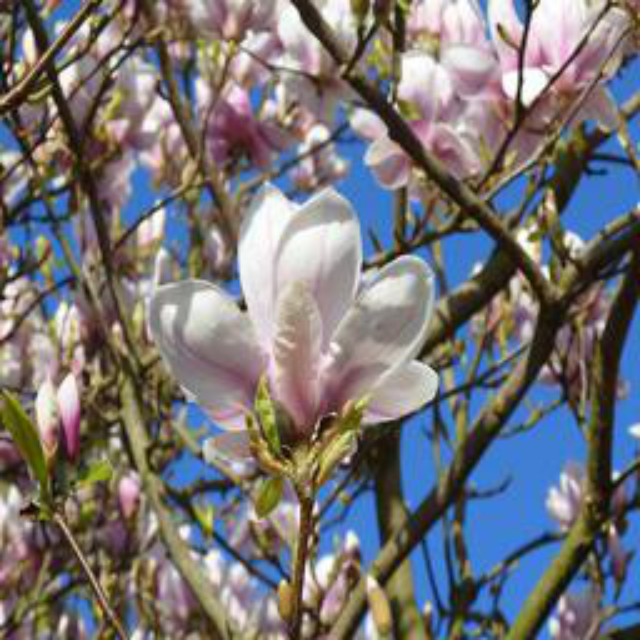magnolia: (144, 179, 441, 497)
